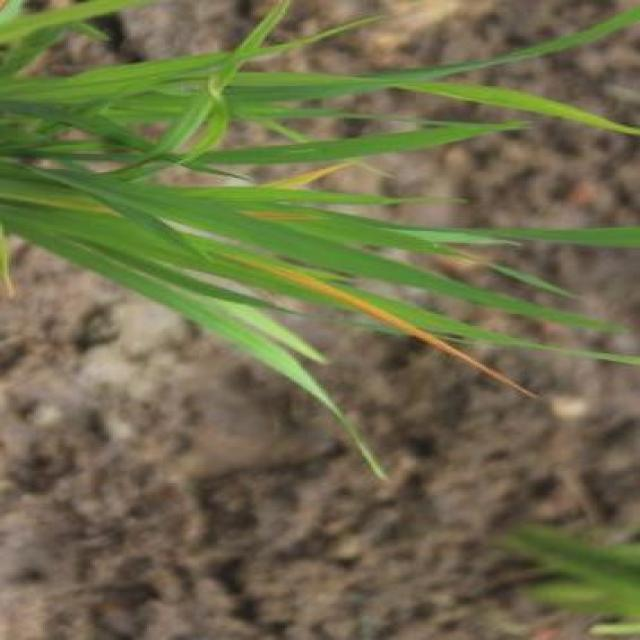Rice Tungro: (301, 268, 548, 409), (284, 160, 357, 190)
